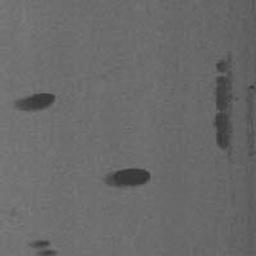Oil spot: (100, 166, 154, 191), (9, 91, 58, 114), (27, 237, 59, 256)
